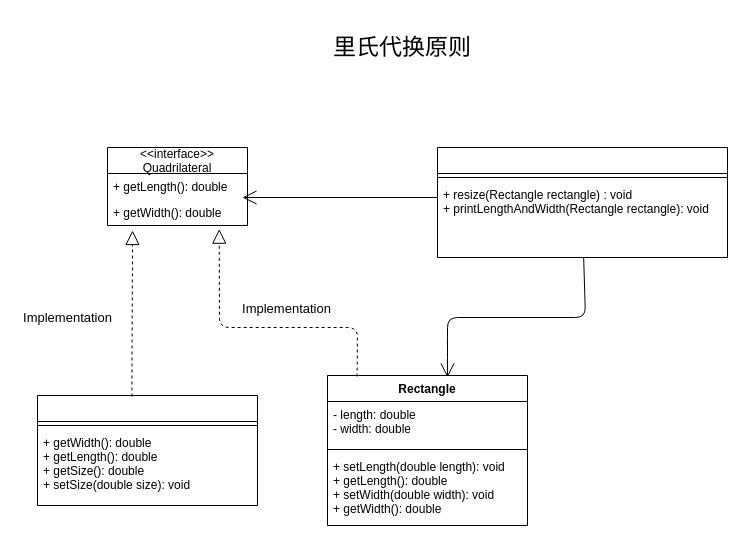
The diagram is 745 pixels wide and 545 high, and some of its shapes have lost their labels. Each missing label, with the box of its shape:
RectangleDemo: (436, 146, 728, 258)
Square: (36, 394, 258, 506)
